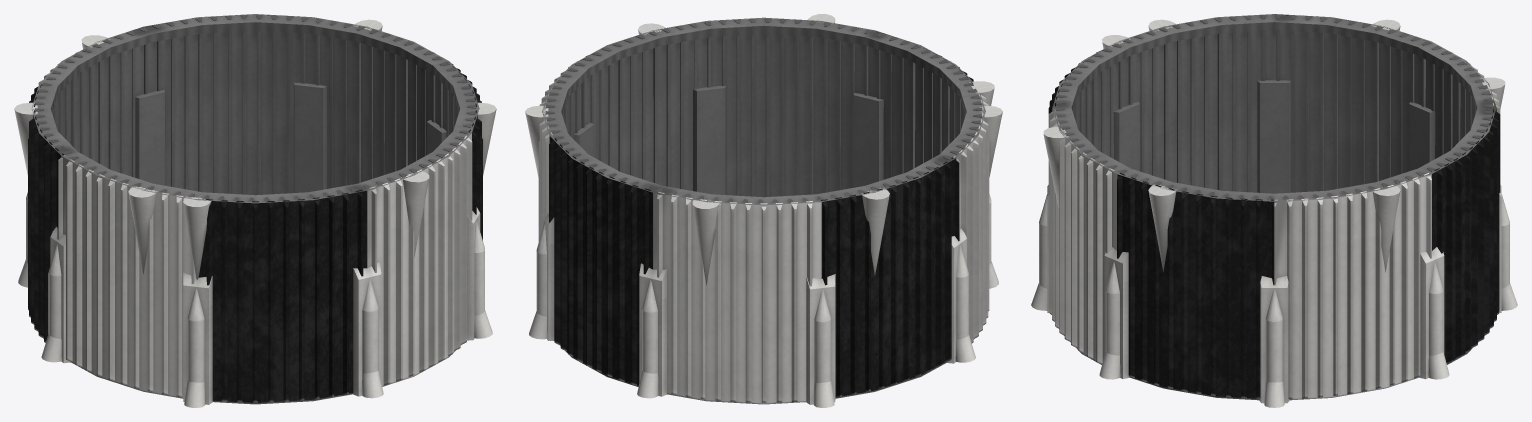
Rendered from ksprocket.fbx.
3 views of the same model, side by side, from view 1: azimuth 30°, elevation 25°; view 2: azimuth 150°, elevation 25°; view 3: azimuth 270°, elevation 25° (orthographic).
Parts seen in each view (by area): view 1: wall.004; view 2: wall.004; view 3: wall.004.
Part boxes in pixels (box(x1,y1,x2,y2)): wall.004: box(14, 14, 496, 407); wall.004: box(525, 14, 1002, 407); wall.004: box(1031, 14, 1517, 407).
Bounding box in the file's own units: 1107 × 502 × 1107.
